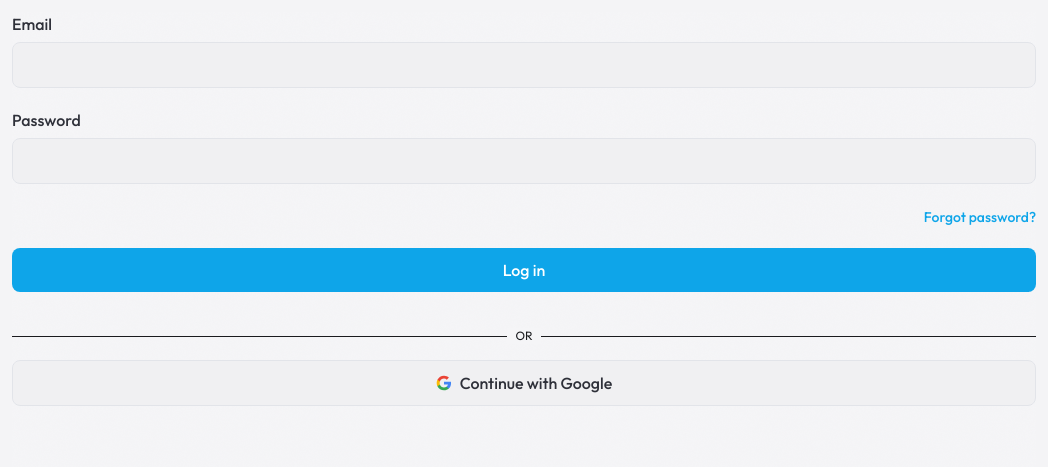
LoginForm › validation › shows email validation error when submitting with no email
Click the button "Log in" at (524, 270), box [12,248,1036,292]
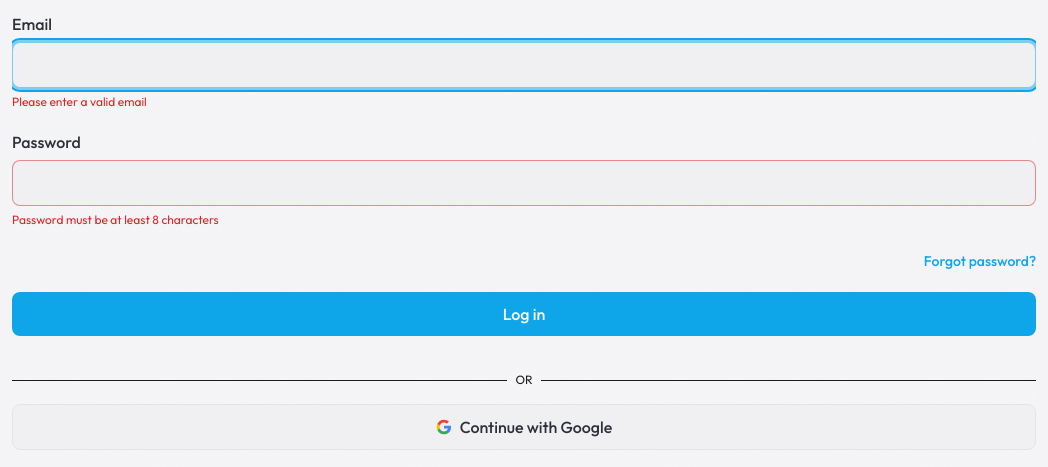
Expected: the text "Please enter a valid email" is shown, [12,94,147,109]
